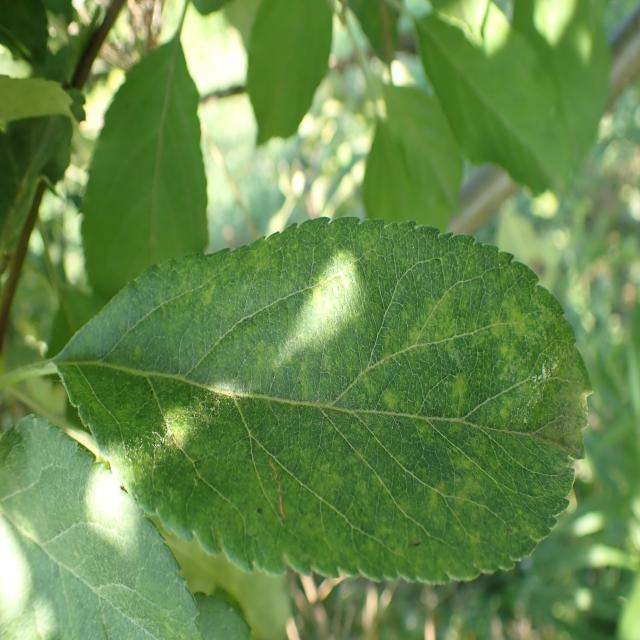scab: (88, 234, 577, 556)
